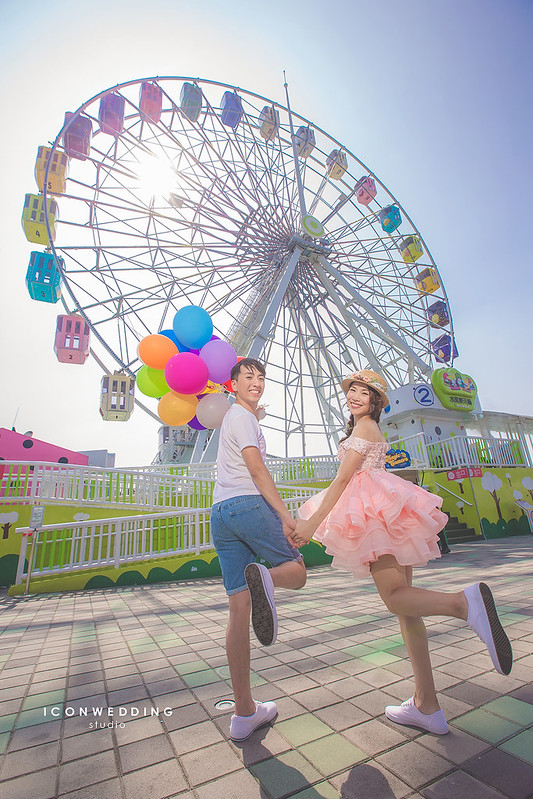people: (320, 367, 512, 736), (215, 356, 288, 743)
